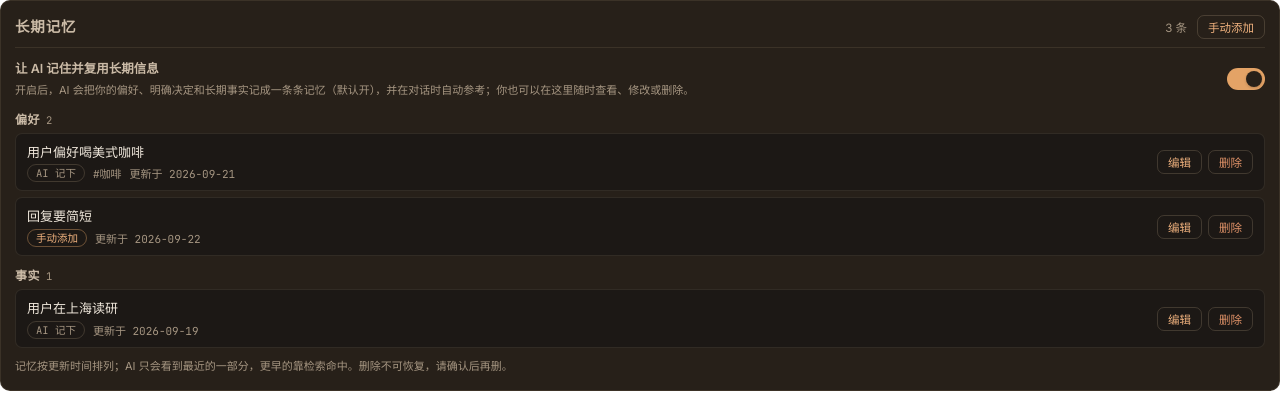
MemorySettings 组件（jsdom） › 删除两段确认：第一次变「确认删除？」，再次点击才发 DELETE
Step 1. Click the button "删除" in the row of "用户偏好喝美式咖啡" → (1230, 162), box [1208,150,1253,174]
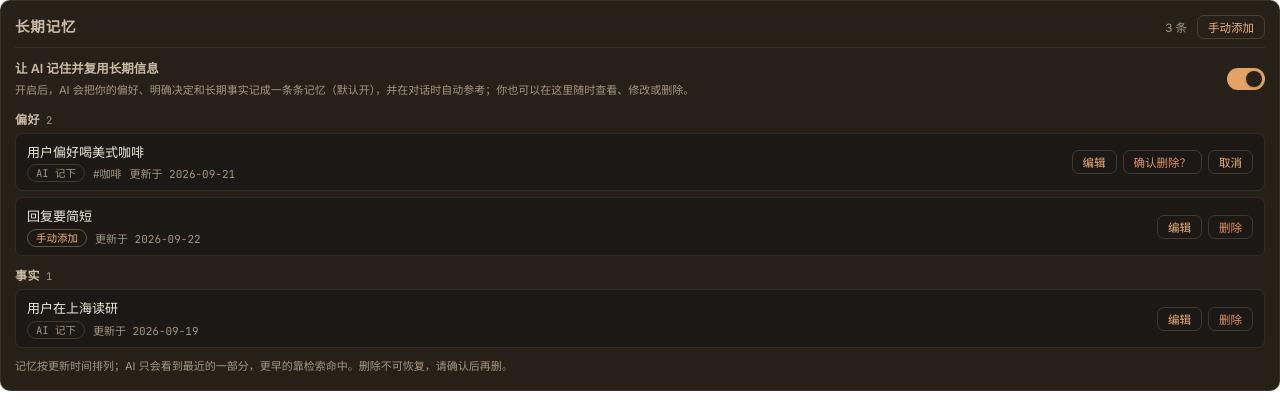
Expected: the text "确认删除？" is shown
Step 2. Click the button "确认删除？" → (1162, 162), box [1122,150,1202,174]
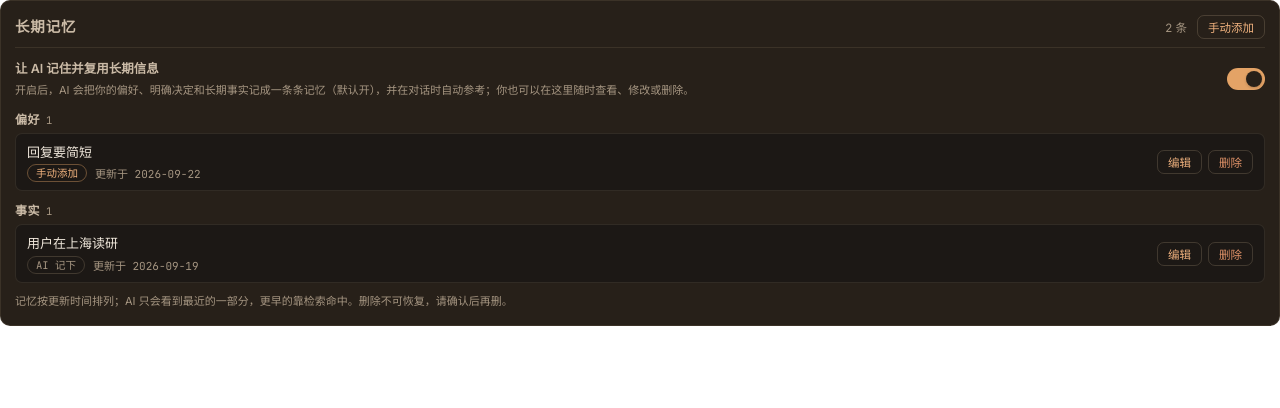
Expected: the text "用户偏好喝美式咖啡" is gone
